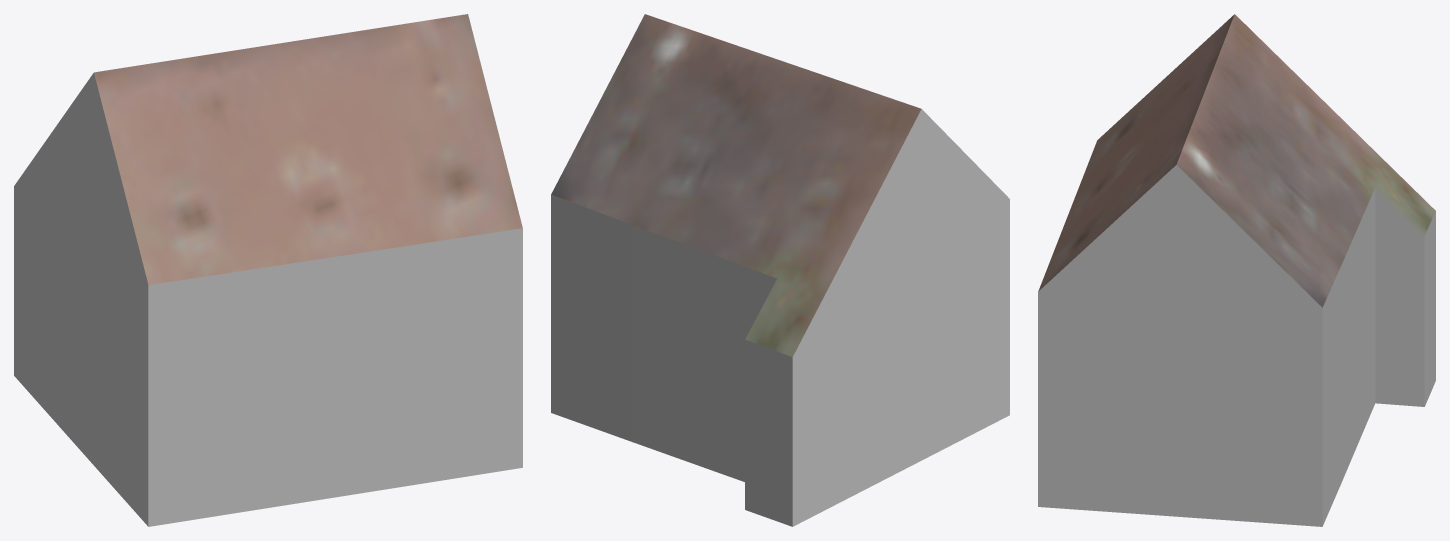
Rendered from DEBW_0010007Tx7c.gltf.
The picture shows the model from 3 angles, left to right: view 1: azimuth 30°, elevation 25°; view 2: azimuth 150°, elevation 25°; view 3: azimuth 270°, elevation 25°; orthographic projection. The views are drawn at different scales.
Parts seen in each view (by area): view 1: Z_UP; view 2: Z_UP; view 3: Z_UP.
Part boxes in pixels (x1,y1,x2,y2): Z_UP: (14, 14, 522, 526); Z_UP: (551, 14, 1009, 526); Z_UP: (1038, 14, 1435, 526).
Bounding box in the file's own units: 11.94 × 11.59 × 11.83.
Materials: 2 (1 with a texture image).
